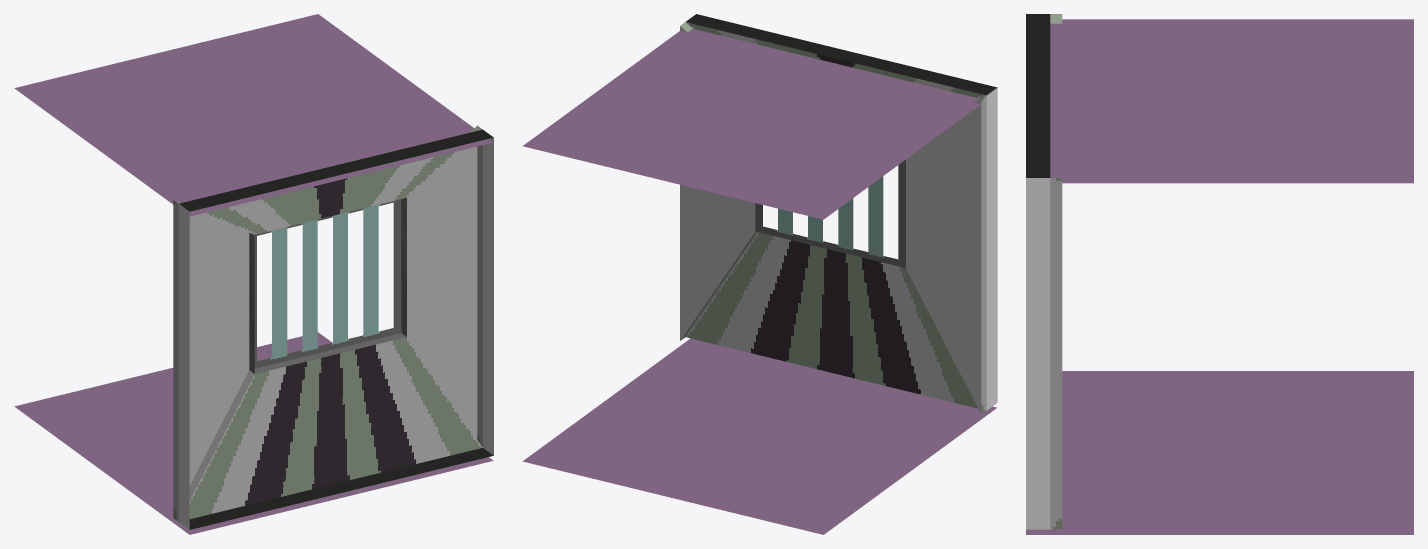
The model's file is GenericServerDoor.gltf.
The picture shows the model from 3 angles, left to right: view 1: azimuth 30°, elevation 25°; view 2: azimuth 150°, elevation 25°; view 3: azimuth 270°, elevation 25°; orthographic projection. The views are drawn at different scales.
Parts seen in each view (by area): view 1: serverdoor, floor (×2); view 2: floor (×2), serverdoor; view 3: floor (×2), serverdoor.
Part boxes in pixels (x1=…): serverdoor: x1=173, y1=125, x2=493, y2=529; floor (×2): x1=14, y1=14, x2=493, y2=534; floor (×2): x1=522, y1=29, x2=996, y2=534; serverdoor: x1=680, y1=14, x2=997, y2=414; floor (×2): x1=1026, y1=19, x2=1413, y2=534; serverdoor: x1=1026, y1=14, x2=1062, y2=529.
Size of the model in its own units: 2 by 2.03 by 2.
Materials: 2 (2 with a texture image).
